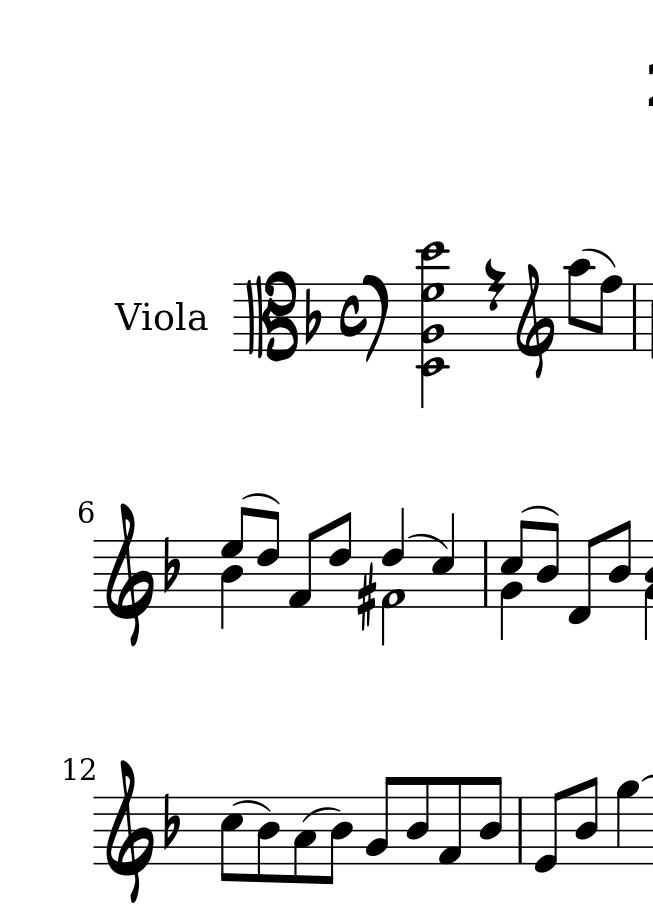1: (63, 756, 76, 782)
2: (78, 754, 95, 784)
2_1: (381, 539, 404, 645)
2_4th: (416, 238, 450, 405)
4_2: (500, 540, 525, 639)
4_4: (220, 538, 246, 629)
4_5: (430, 510, 457, 608)
4_6: (383, 508, 408, 609)
4_9: (613, 779, 640, 867)
6: (77, 497, 95, 529)
8_-1: (566, 531, 600, 628)
8_0: (532, 788, 566, 877)
8_1: (289, 525, 323, 609), (435, 775, 465, 866)
8_10: (566, 257, 589, 354)
8_2: (362, 775, 397, 866)
8_3: (290, 795, 317, 884)
8_4: (322, 794, 356, 885), (403, 774, 433, 864), (477, 775, 506, 866), (572, 776, 600, 866), (608, 519, 635, 610), (534, 520, 560, 611), (254, 796, 279, 882)
8_5: (501, 519, 533, 608), (216, 795, 243, 882)
8_6: (254, 509, 281, 611), (328, 511, 354, 610)
8_7: (224, 506, 252, 610)
8_8: (594, 273, 626, 353)
Cclef: (246, 269, 298, 363)
Fclef: (104, 756, 155, 906)
Flat: (159, 791, 183, 848), (160, 535, 183, 593), (303, 286, 324, 345)
Gclef: (105, 501, 153, 646), (516, 258, 557, 384)
Rests4: (481, 254, 507, 315)
Sharp: (354, 562, 377, 628)
Single_barline: (477, 541, 494, 606), (627, 283, 643, 350), (513, 797, 527, 864)
Slur: (408, 531, 446, 552), (582, 248, 617, 270), (303, 806, 341, 824), (231, 798, 270, 814), (520, 504, 558, 518), (242, 492, 280, 505)
TimeSig: (339, 271, 388, 361), (338, 282, 366, 352)
Vla: (113, 301, 207, 333)
